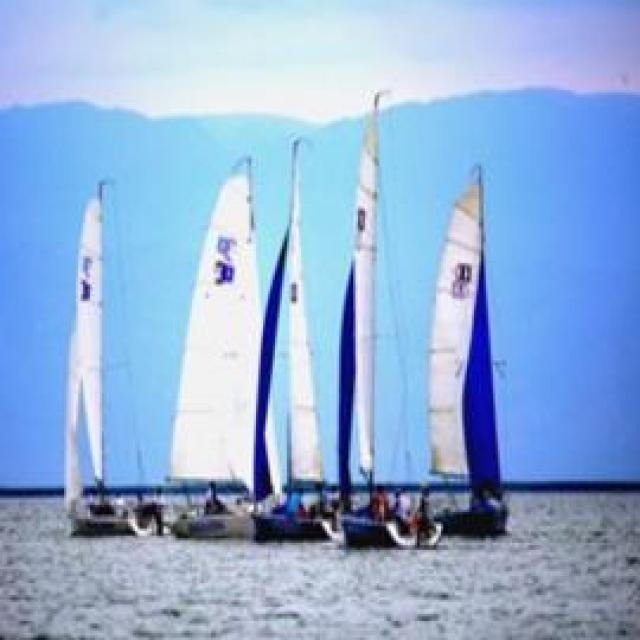sailboat: (154, 155, 268, 539), (330, 85, 415, 552), (54, 182, 160, 532), (411, 157, 507, 543), (245, 127, 332, 544)
